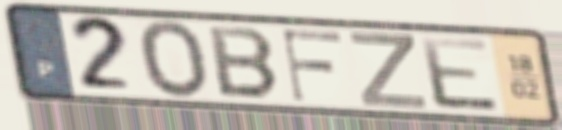2: (65, 14, 145, 100)
B: (204, 23, 283, 102)
E: (415, 34, 505, 115)
F: (279, 28, 346, 105)
O: (135, 17, 213, 102)
Z: (346, 30, 431, 112)
